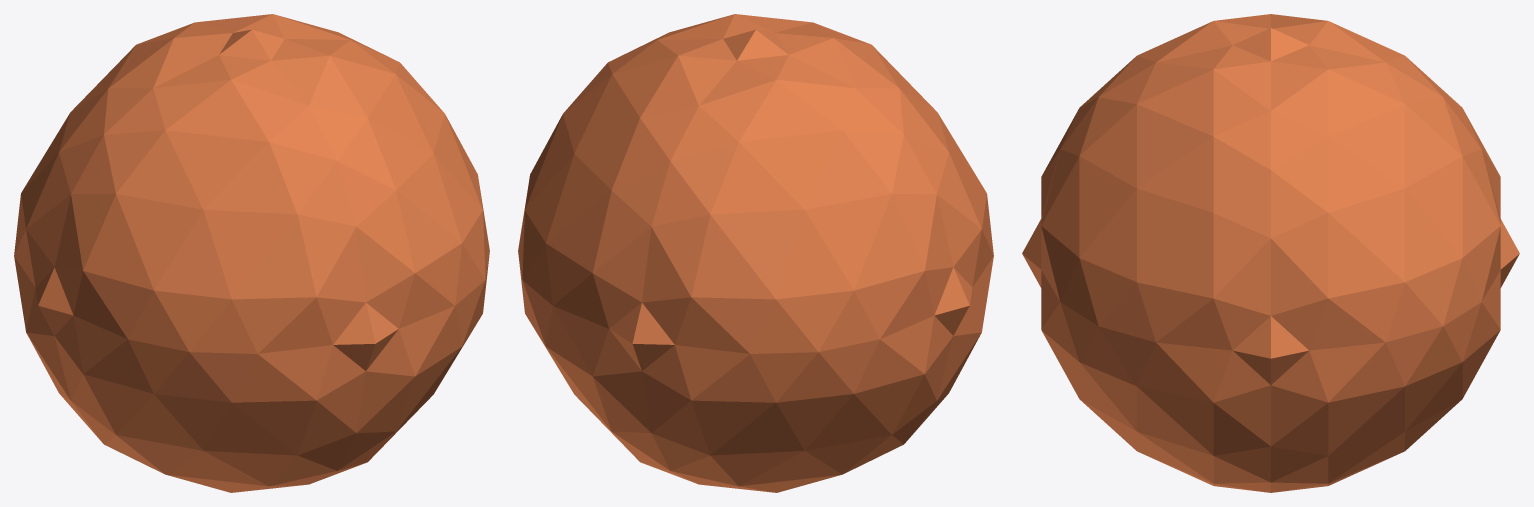
Rendered from Ball.glb.
3 views of the same model, side by side, from view 1: azimuth 30°, elevation 25°; view 2: azimuth 150°, elevation 25°; view 3: azimuth 270°, elevation 25° (orthographic).
Parts seen in each view (by area): view 1: node-0; view 2: node-0; view 3: node-0.
Boxes of the visible parts, x1,y1,x2,y2 form: node-0: [14, 14, 489, 492]; node-0: [518, 14, 993, 492]; node-0: [1022, 14, 1519, 492].
Bounding box in the file's own units: 208 × 208 × 208.
Materials: 1 (1 with a texture image).
